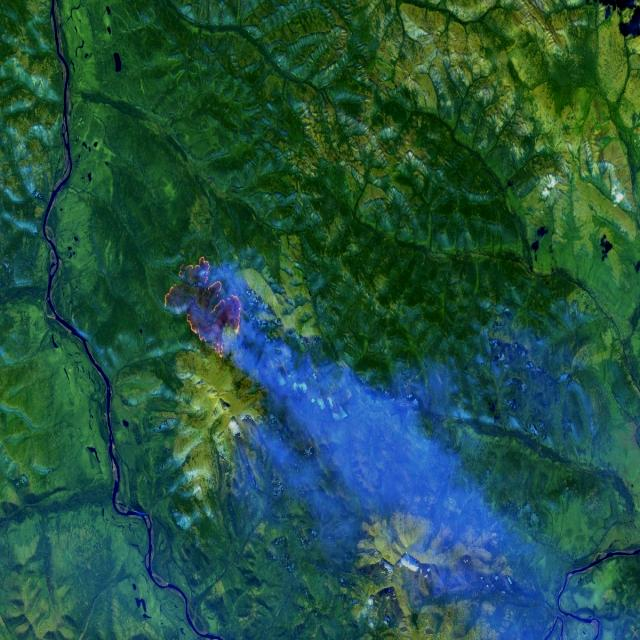fire: (158, 246, 248, 362)
